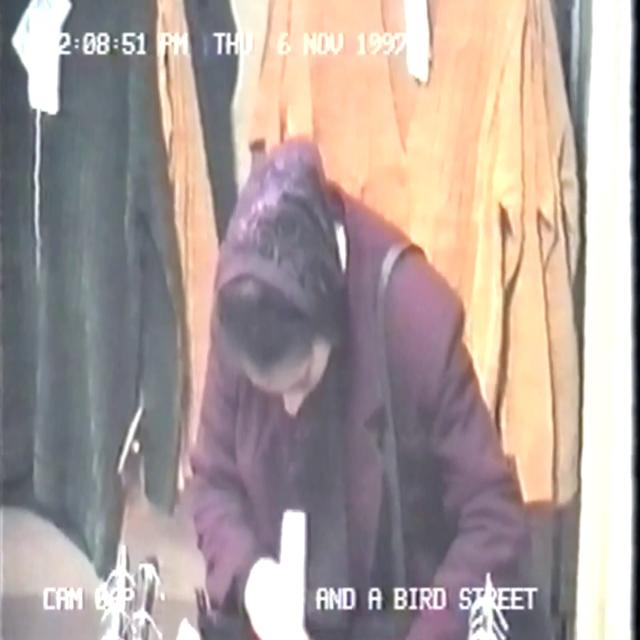normal: (153, 0, 518, 640)
